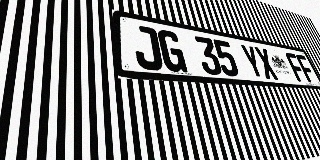3: (194, 36, 223, 76)
5: (212, 39, 241, 77)
F: (284, 52, 308, 82), (295, 54, 318, 83)
G: (157, 29, 188, 73)
J: (132, 24, 164, 71)
X: (253, 46, 279, 80)
Y: (239, 44, 266, 79)
